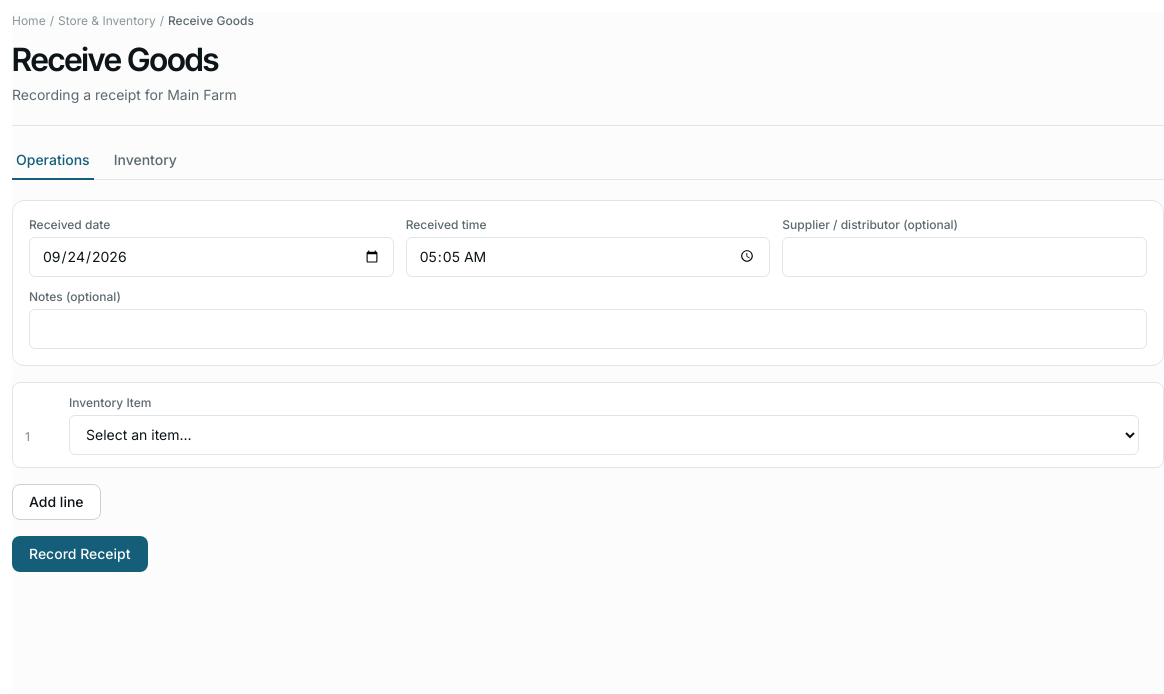
Test case: ReceiveGoodsPage › PILOT-UX-003: auto-reveals collapsed Lot details when Expiry Date is required and missing
The width and height of the screenshot is (1164, 694).
Step 1. Select "Calcium Nitrate" in the dropdown labelled "Inventory Item" → (604, 435), box [69, 415, 1139, 455]
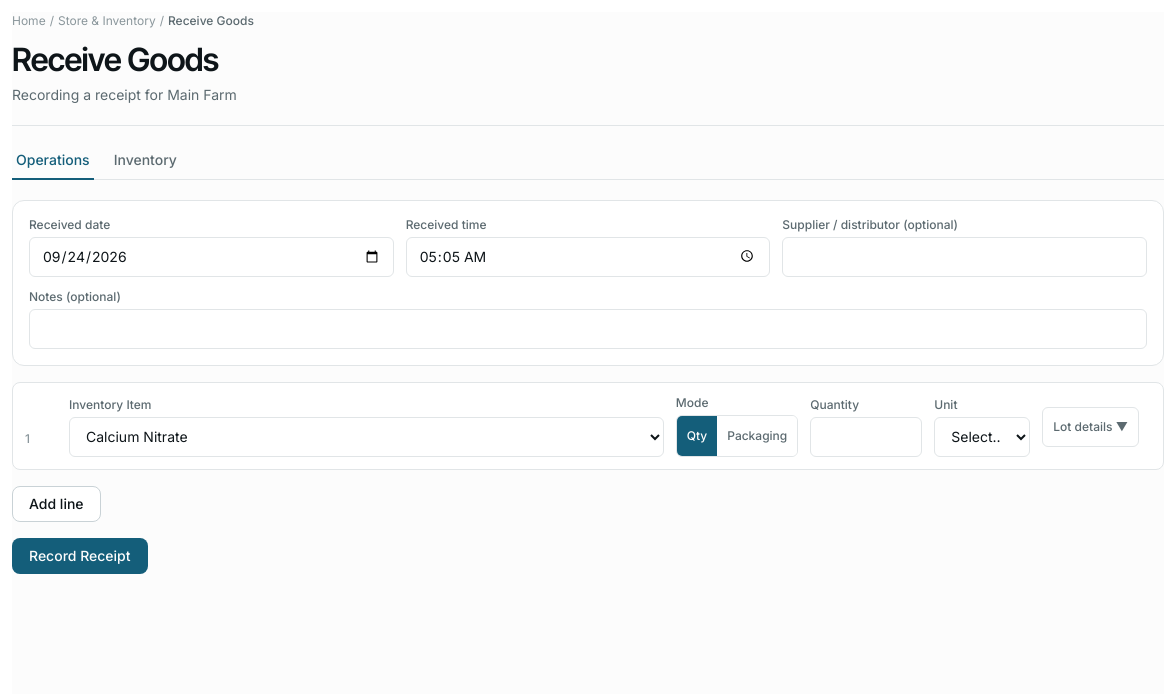
Result: the button "Lot details ▼" is shown at [1042, 407, 1139, 447]
Step 2. Type "100" into the number field labelled "Quantity" → (866, 437), box [810, 417, 922, 457]
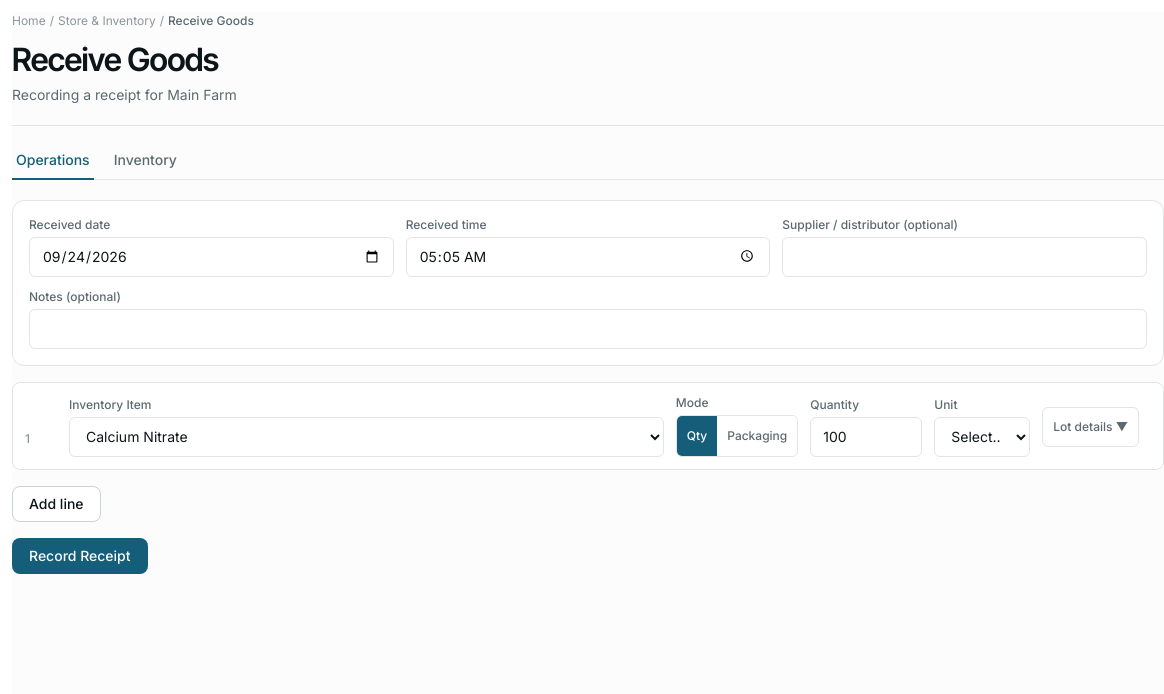
Step 3. Select "kg" in the dropdown labelled "Unit" → (982, 437), box [934, 417, 1030, 457]
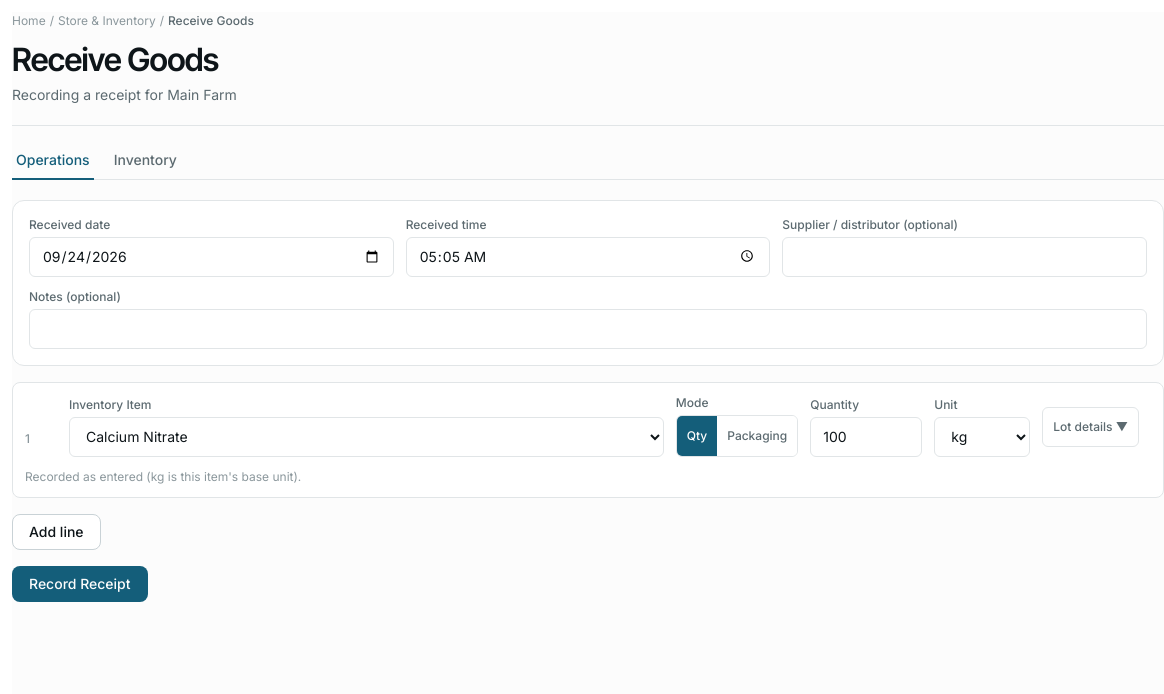
Expected: the field labelled "Expiry Date" is not shown
Step 4. Click the button "Record Receipt" → click(80, 584), box [12, 566, 148, 602]
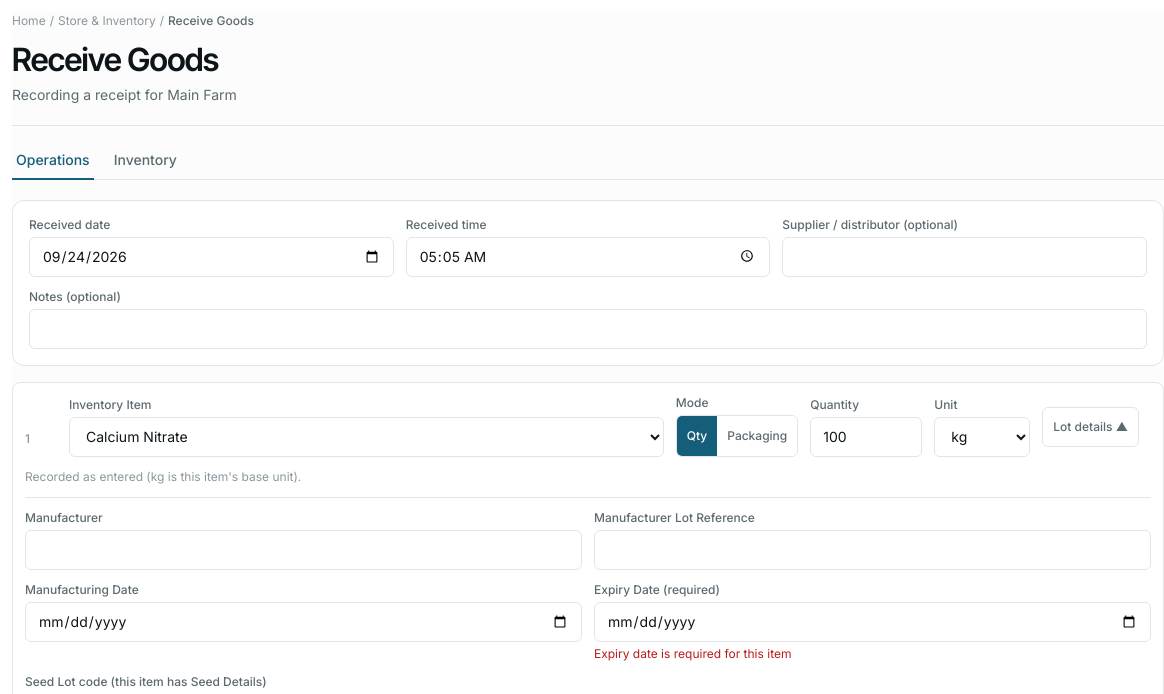
Result: the date field labelled "Expiry Date (required) Expiry date is required for this item" is shown at [594, 602, 1151, 642]
Result: the text "Expiry date is required for this item" is shown at [594, 646, 792, 661]
